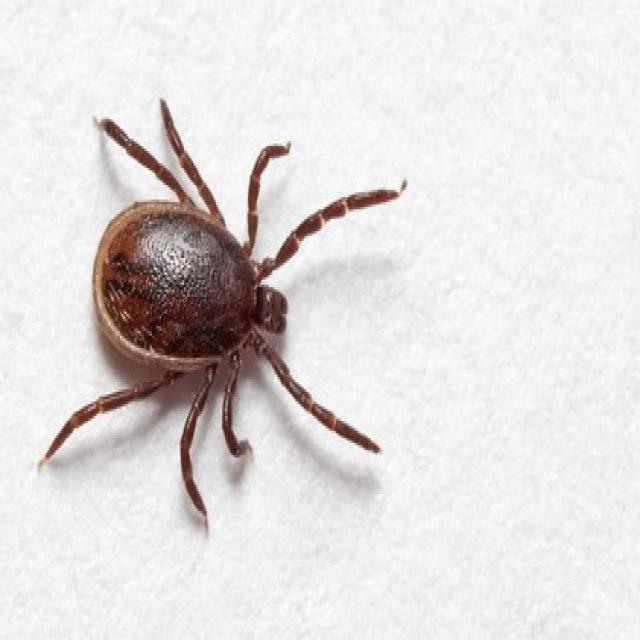Ixodes Ricinus-M: (40, 102, 407, 528)
